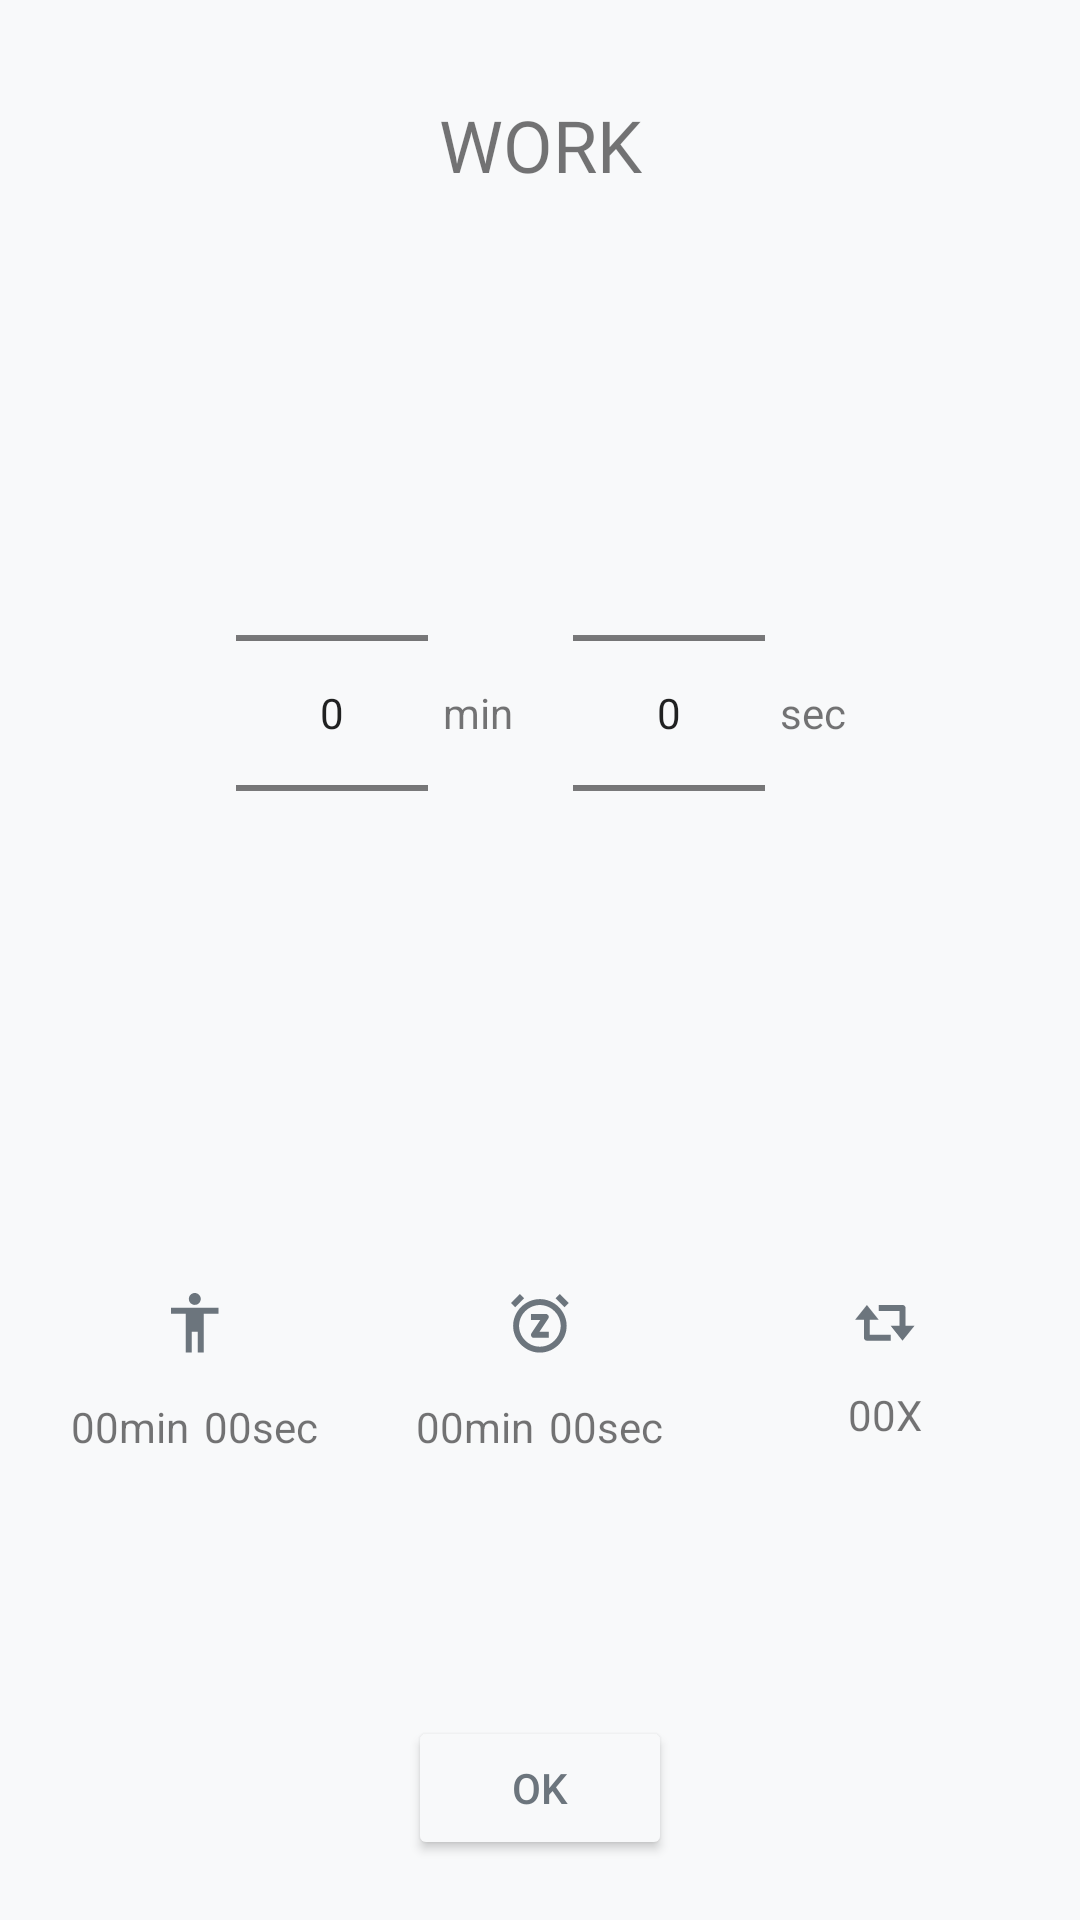

Where icons sit on this 1080w x 1920h app screen, as {"left": x1, "top": y1, "right": x2, "bottom": y2}:
rest: {"left": 511, "top": 1294, "right": 569, "bottom": 1353}
round: {"left": 855, "top": 1305, "right": 914, "bottom": 1341}
